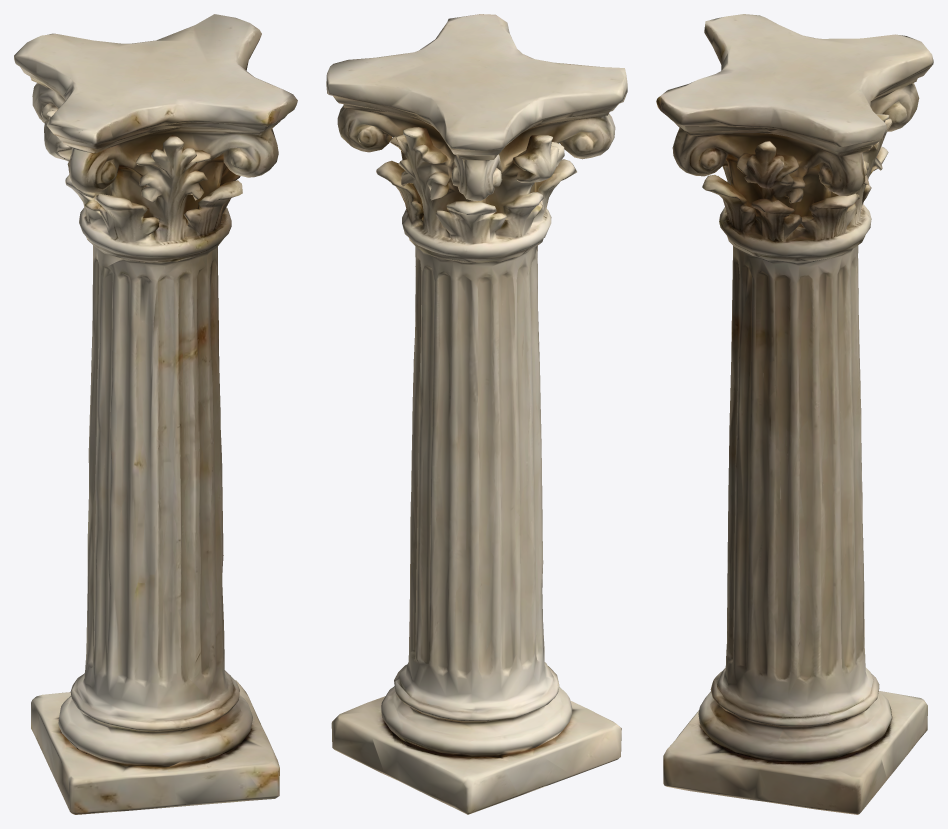
File: column.glb
3 views of the same model, side by side, from view 1: azimuth 30°, elevation 25°; view 2: azimuth 150°, elevation 25°; view 3: azimuth 270°, elevation 25° (orthographic).
Parts seen in each view (by area): view 1: tripo_node_9779e5c7-a1d0-4283-b13b-7216592ec5ba; view 2: tripo_node_9779e5c7-a1d0-4283-b13b-7216592ec5ba; view 3: tripo_node_9779e5c7-a1d0-4283-b13b-7216592ec5ba.
Boxes of the visible parts, bbox=[...] form: tripo_node_9779e5c7-a1d0-4283-b13b-7216592ec5ba: bbox=[14, 14, 297, 814]; tripo_node_9779e5c7-a1d0-4283-b13b-7216592ec5ba: bbox=[326, 14, 627, 814]; tripo_node_9779e5c7-a1d0-4283-b13b-7216592ec5ba: bbox=[656, 14, 933, 814].
Size of the model in its own units: 0.386 by 0.9999 by 0.3656.
Materials: 1 (1 with a texture image).
